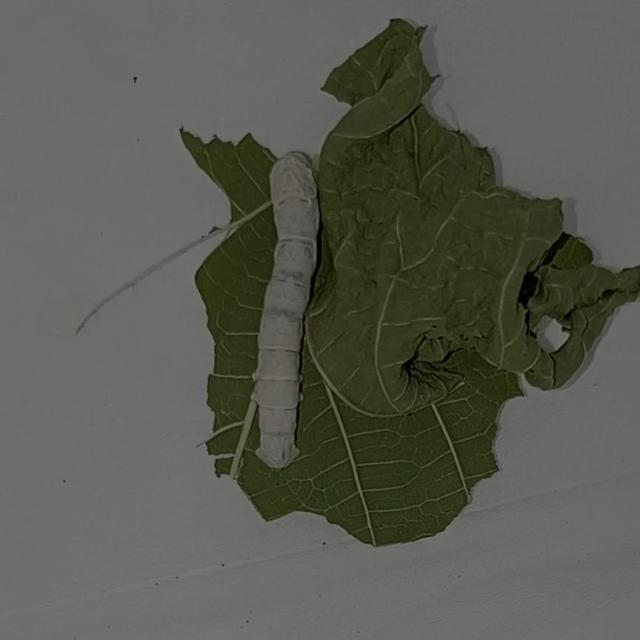Healthy: (233, 138, 353, 477)
